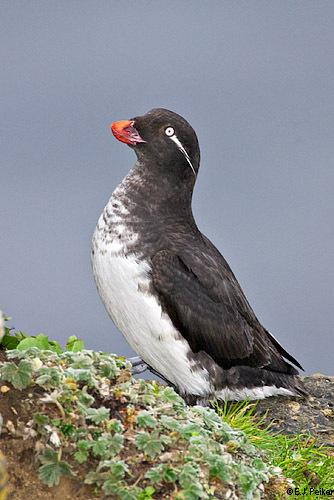007.Parakeet_Auklet: (90, 106, 311, 409)
